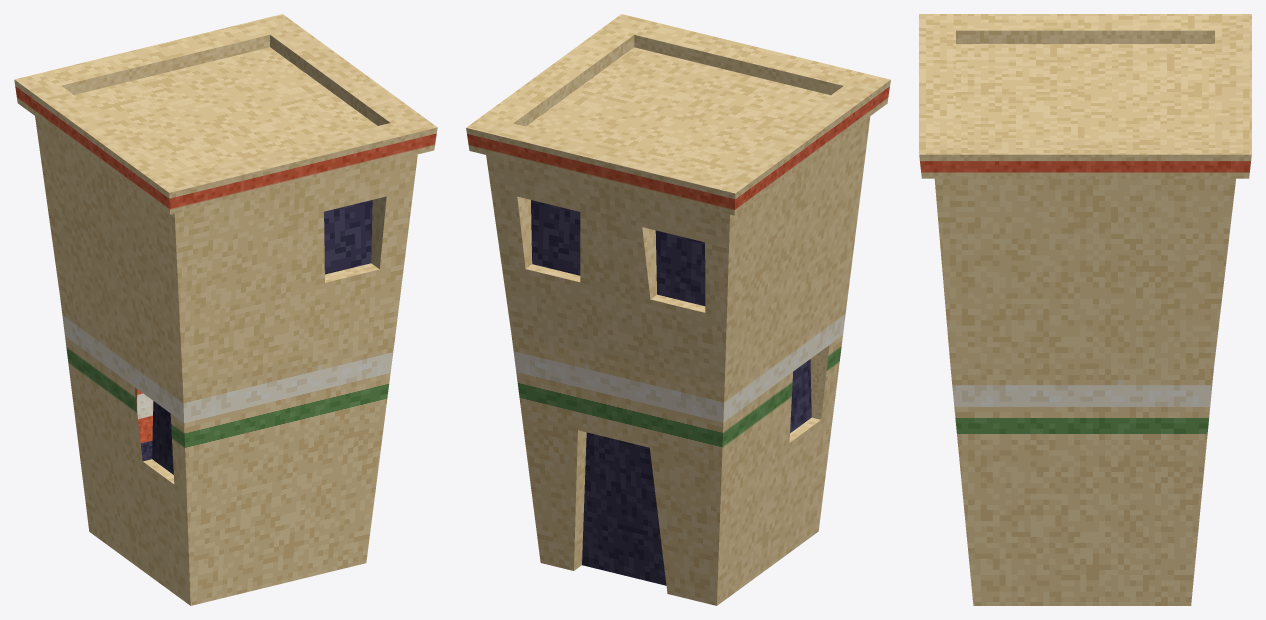
The model's file is CasaEgiptoModeloC.fbx.
3 views of the same model, side by side, from view 1: azimuth 30°, elevation 25°; view 2: azimuth 150°, elevation 25°; view 3: azimuth 270°, elevation 25° (orthographic). The views are drawn at different scales.
Visible parts, largest first — view 1: CasaModeloC; view 2: CasaModeloC; view 3: CasaModeloC.
Boxes of the visible parts, x1,y1,x2,y2 form: CasaModeloC: (14, 14, 437, 605); CasaModeloC: (466, 14, 890, 605); CasaModeloC: (919, 14, 1251, 605).
Bounding box in the file's own units: 2.58 × 4.07 × 2.58.
